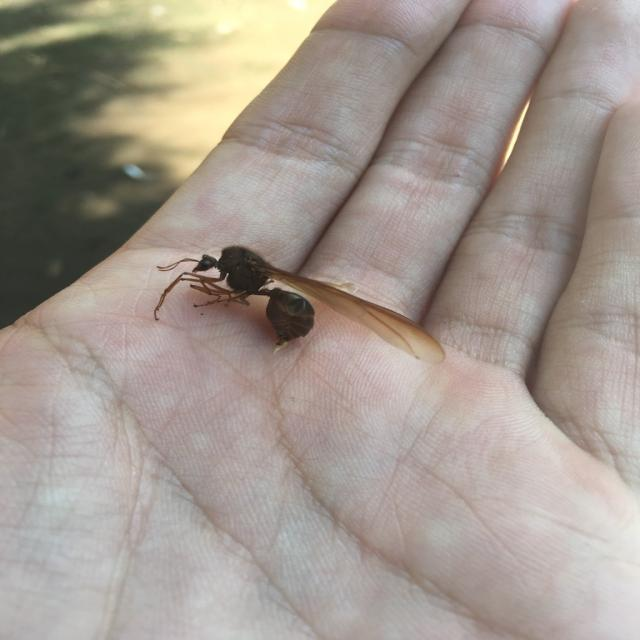Dead-Male-Alate: (153, 244, 445, 365)
